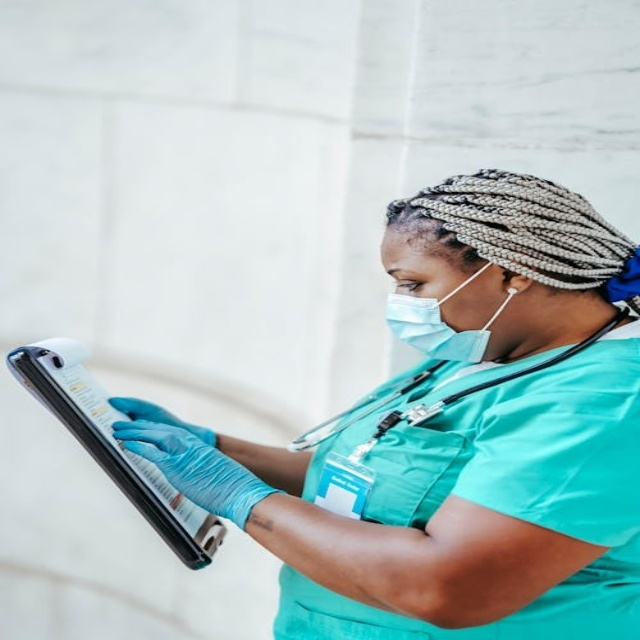Guantes: (110, 418, 276, 525), (108, 397, 218, 447)
Mascara: (385, 259, 503, 361)
Sin_gafas: (383, 259, 449, 293)
